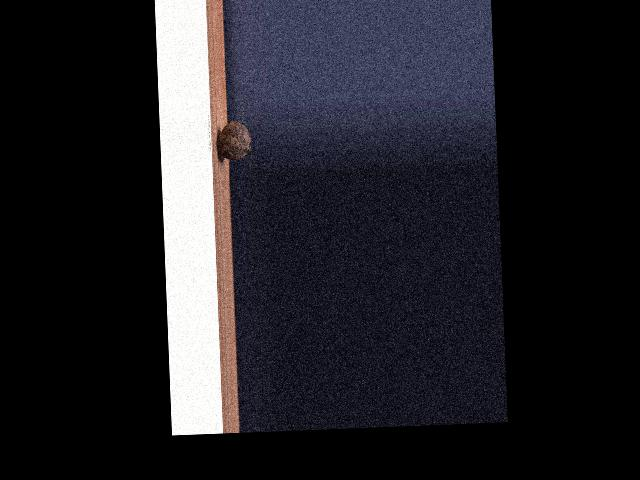beet: (216, 120, 252, 172)
